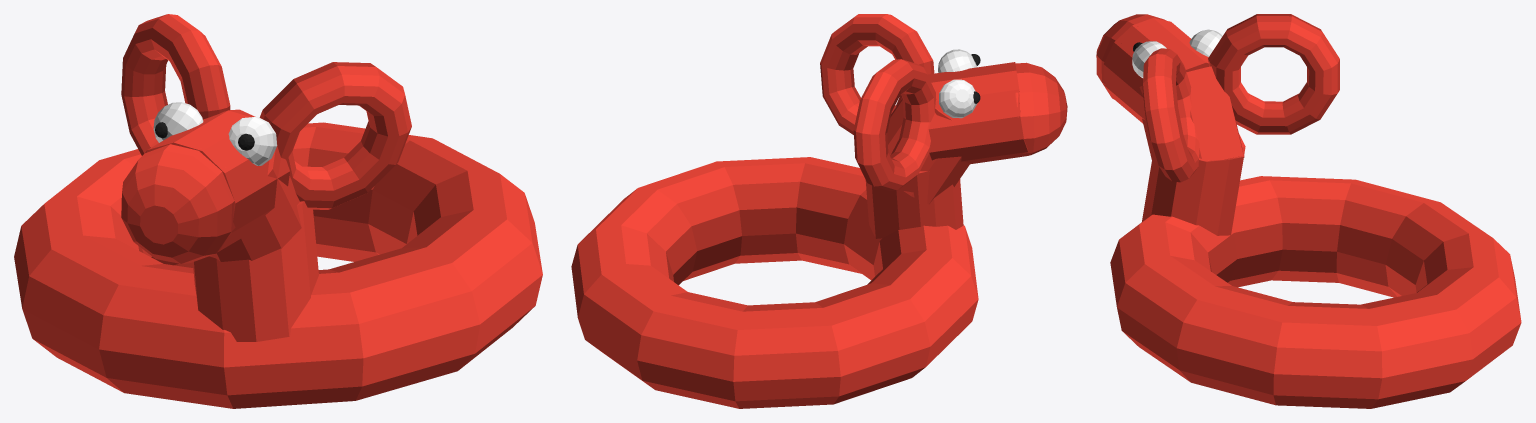
Rendered from Inflatable Water Tube-transformed.glb.
The picture shows the model from 3 angles, left to right: view 1: azimuth 30°, elevation 25°; view 2: azimuth 150°, elevation 25°; view 3: azimuth 270°, elevation 25°; orthographic projection. The views are drawn at different scales.
Parts seen in each view (by area): view 1: group1128786684, group299848747; view 2: group1128786684, group299848747; view 3: group1128786684, group299848747.
Boxes of the visible parts, x1,y1,x2,y2 form: group1128786684: [14, 14, 542, 408]; group299848747: [153, 102, 277, 165]; group1128786684: [571, 14, 1067, 408]; group299848747: [938, 49, 977, 118]; group1128786684: [1096, 14, 1521, 408]; group299848747: [1132, 29, 1222, 77].
Size of the model in its own units: 1.64 by 1.18 by 1.59.
